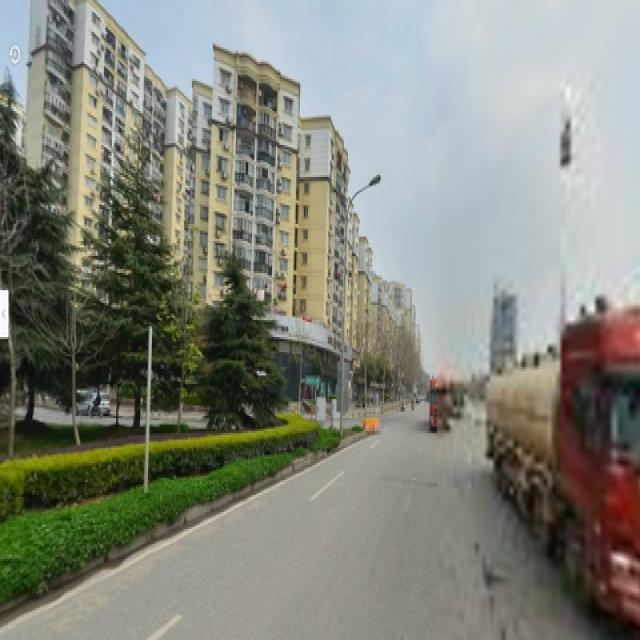cedr: (103, 126, 173, 424), (205, 245, 276, 427)
